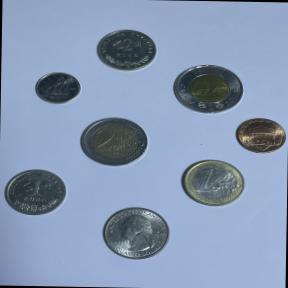coin: (170, 60, 248, 120), (96, 204, 174, 262), (74, 115, 153, 172), (178, 156, 249, 210), (92, 26, 161, 74), (233, 116, 288, 157), (31, 70, 85, 108)
